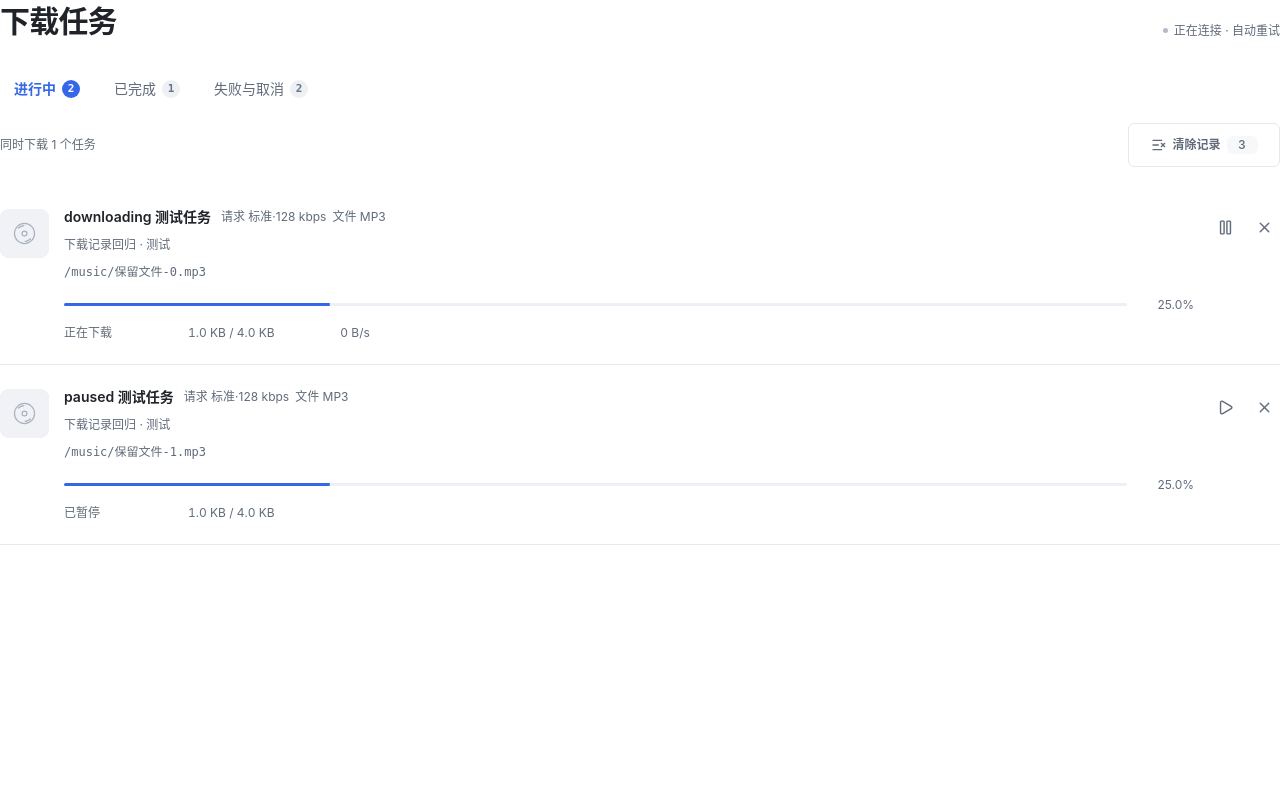
it: 无效服务端数量不冒报成功，弹窗保留可重试：null
The width and height of the screenshot is (1280, 800).
Step 1. Click the button with aria-label "清除记录，共" → coordinates (1204, 144), box [1128, 122, 1279, 166]
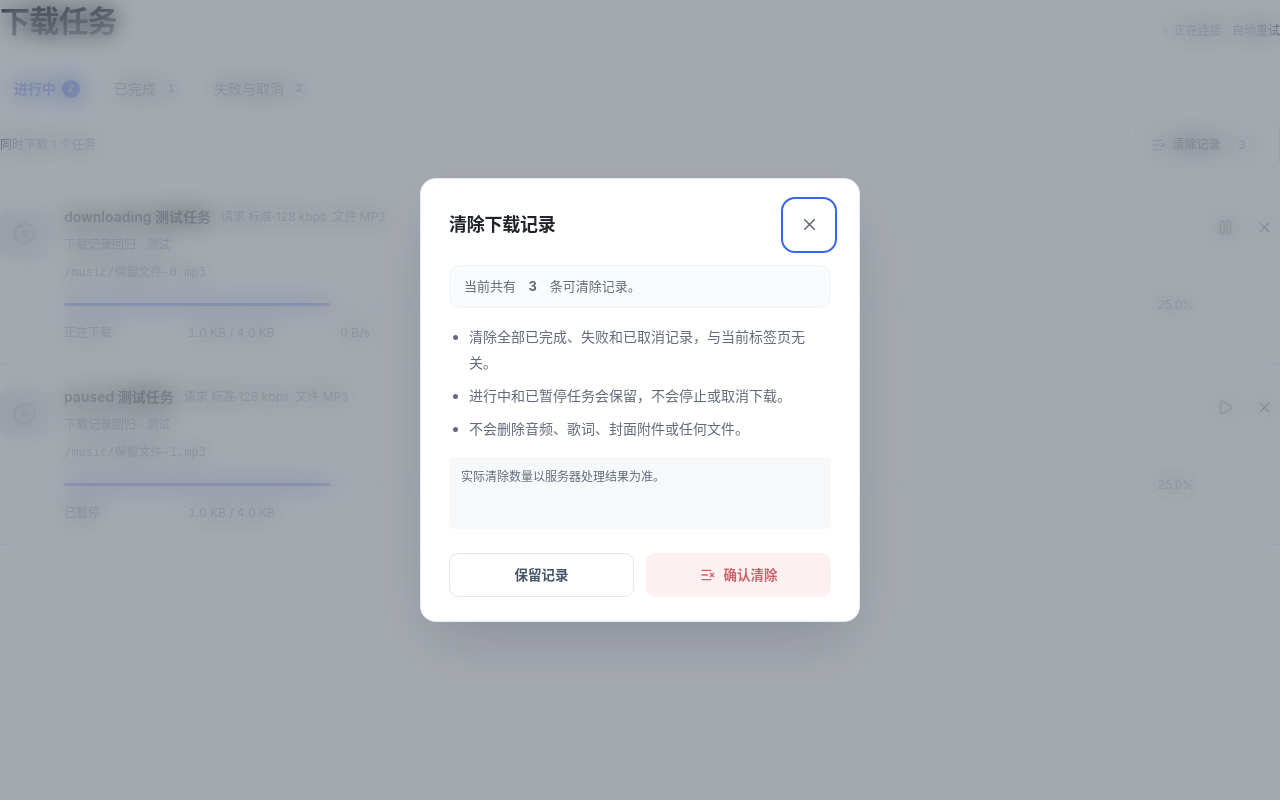
Step 2. Click the button "确认清除" → coordinates (738, 575), box [646, 553, 831, 597]
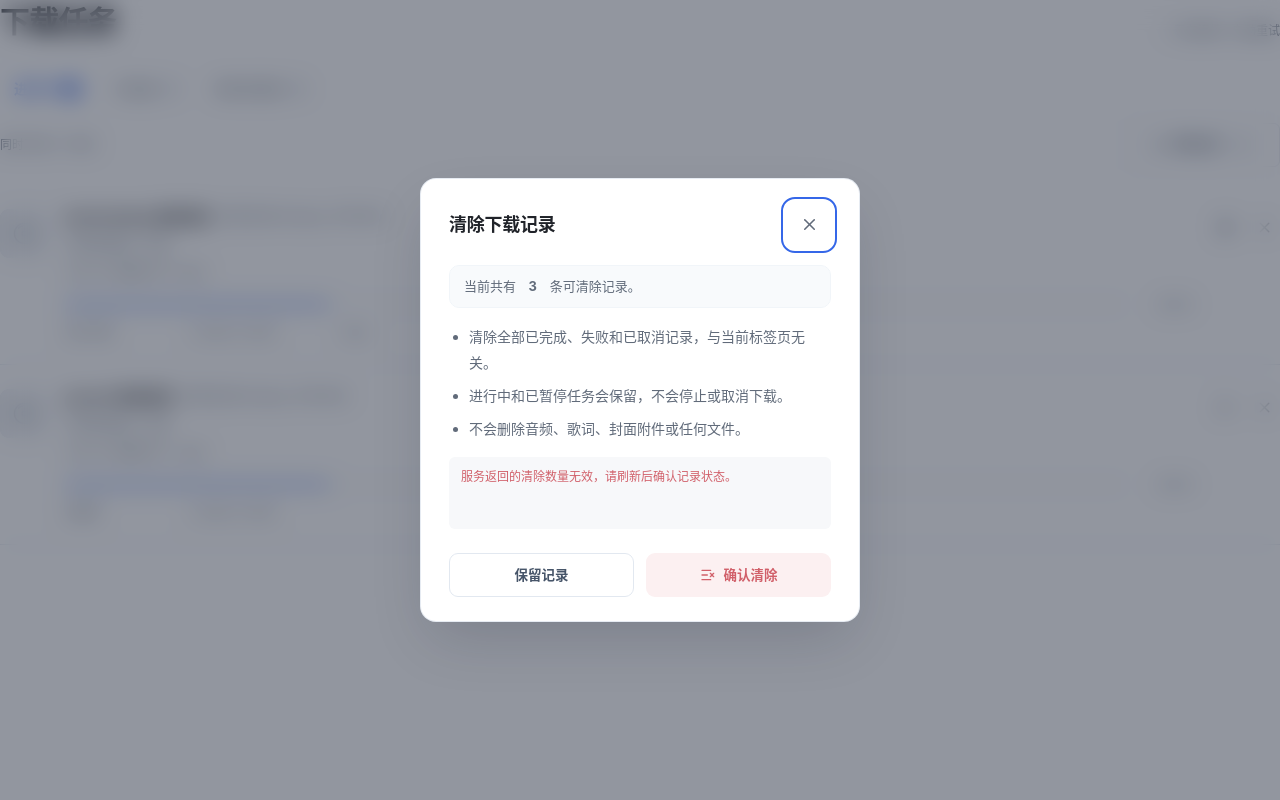
Result: the button "确认清除" is enabled at [646, 553, 831, 597]
Result: the message shows "服务返回的清除数量无效" at [461, 469, 737, 484]
